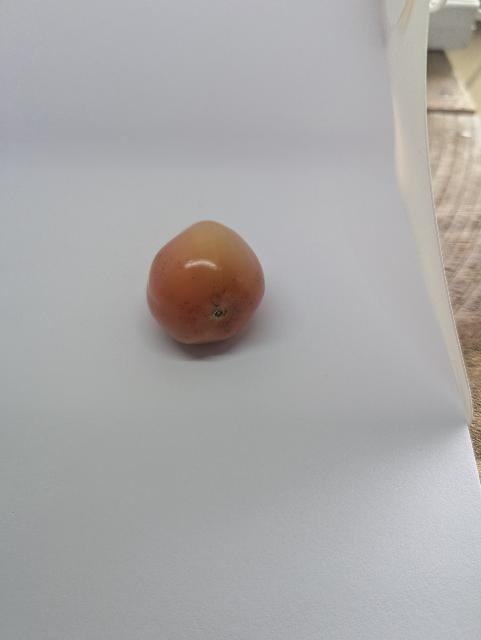turning: (143, 216, 271, 346)
